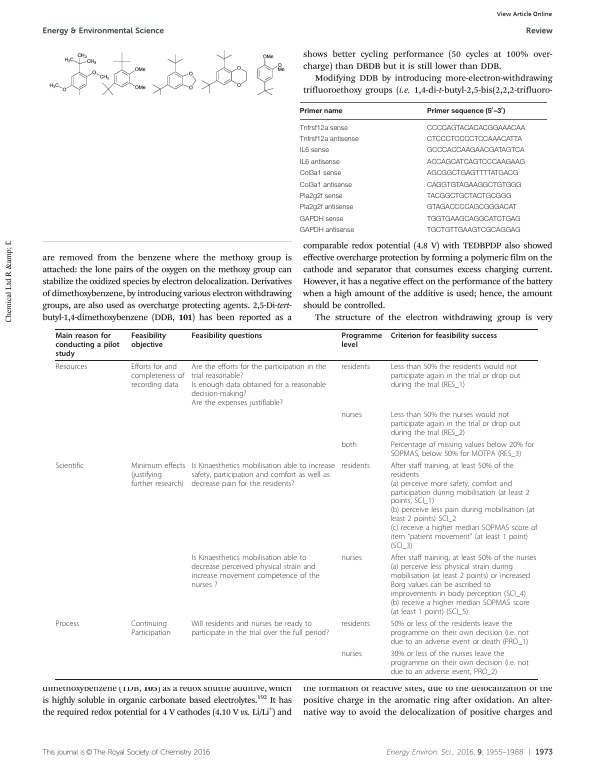borderless: (54, 327, 538, 679), (298, 100, 548, 235)
cell: (390, 461, 538, 551), (390, 553, 537, 617), (190, 362, 327, 407), (190, 553, 320, 590), (190, 461, 336, 488), (390, 619, 530, 647), (390, 649, 530, 677), (390, 362, 521, 390), (390, 410, 521, 437), (190, 619, 330, 638), (390, 440, 535, 458), (55, 331, 120, 358), (130, 362, 185, 390), (130, 461, 186, 488), (390, 331, 498, 340), (426, 124, 526, 133), (426, 158, 526, 167), (426, 135, 522, 144), (426, 226, 521, 235), (426, 169, 519, 178), (130, 619, 172, 638), (426, 147, 525, 155), (426, 192, 512, 201), (340, 331, 383, 349), (426, 181, 522, 189), (426, 215, 521, 223), (426, 204, 517, 212), (130, 331, 167, 349), (190, 331, 263, 340), (426, 107, 506, 115), (299, 135, 359, 144), (299, 226, 355, 235), (299, 124, 348, 133), (299, 204, 354, 212), (299, 181, 352, 189), (299, 192, 343, 201), (299, 169, 342, 178), (299, 158, 340, 167), (299, 215, 344, 223), (299, 107, 343, 115), (55, 362, 88, 372), (340, 362, 371, 372), (340, 619, 371, 629), (54, 461, 85, 470), (340, 461, 371, 470), (54, 619, 80, 629), (299, 147, 329, 155), (340, 553, 363, 563), (340, 649, 363, 659), (340, 410, 363, 419), (340, 440, 358, 449)
